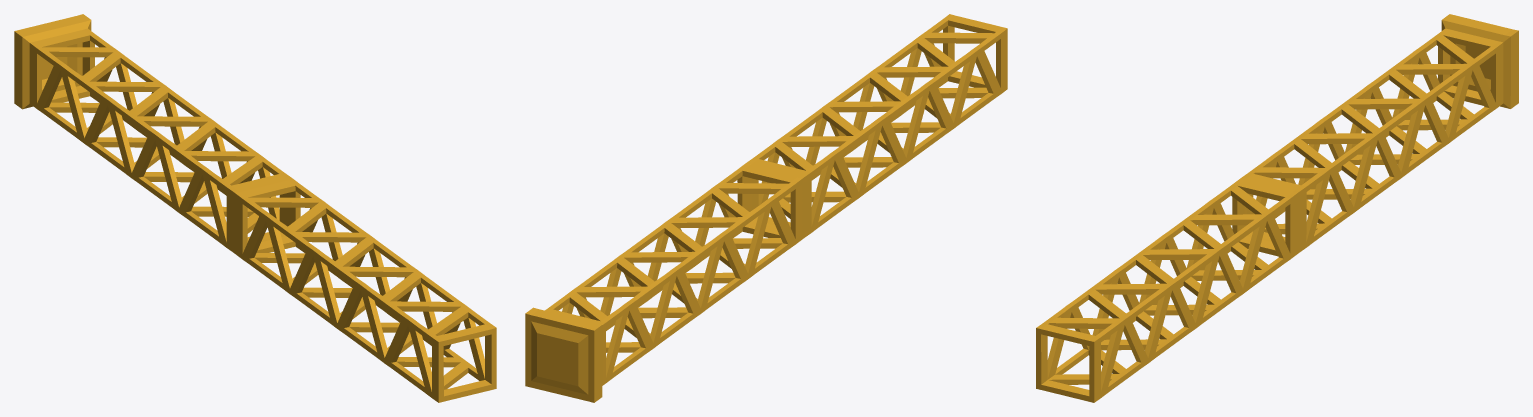
3 views of the same model, side by side, from view 1: azimuth 30°, elevation 25°; view 2: azimuth 150°, elevation 25°; view 3: azimuth 330°, elevation 25° (orthographic).
Visible parts, largest first — view 1: E-3; view 2: E-3; view 3: E-3.
Boxes of the visible parts, left/top/right/bottom form: E-3: left=14, top=14, right=496, bottom=402; E-3: left=525, top=14, right=1007, bottom=402; E-3: left=1036, top=14, right=1518, bottom=402.
Size of the model in its own units: 505 by 507 by 5326.
